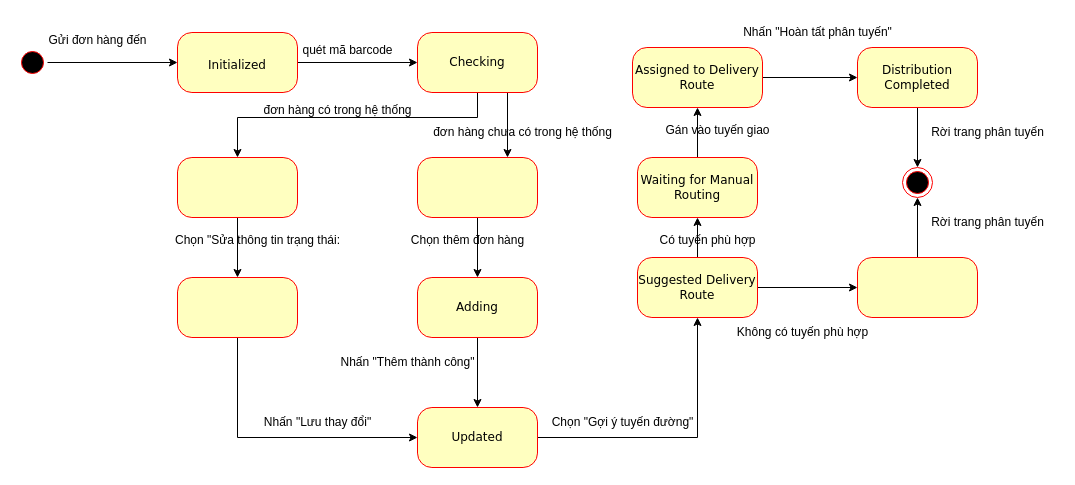
The diagram is 1075 pixels wide and 485 high, and some of its shapes have lost their labels. Here are the shapes that lost their labels. From the top down, the box of each, then its label:
(176, 156, 298, 218): Existed
(416, 156, 538, 218): Not Existed
(176, 276, 298, 338): Editing
(856, 256, 978, 318): Distribution Failed
